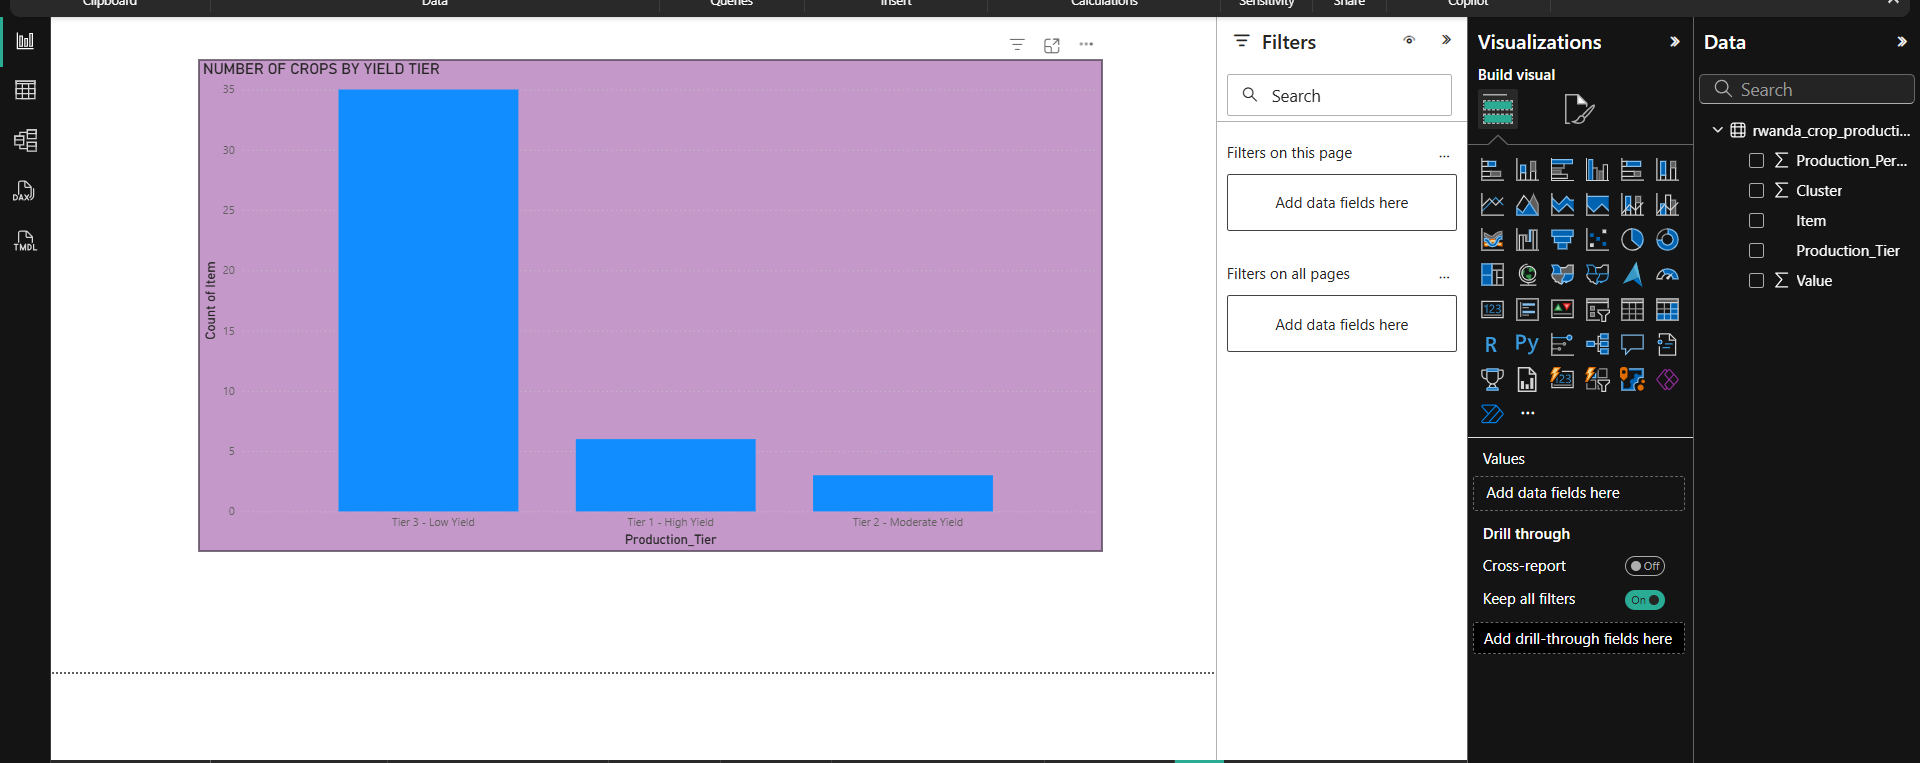

What the dashboard file says about the page in this screenshot:
{"tool":"powerbi","page":{"name":"Clustered Column Chart","canvas":[1280,720],"ordinal":4},"visuals":[{"type":"clusteredColumnChart","title":"NUMBER OF CROPS BY YIELD TIER","fields":{"Category":["rwanda_crop_production_trends.Production_Tier"],"Y":["CountNonNull(rwanda_crop_production_trends.Item)"]},"box":[161.9,46.7,993.5,540.7],"z":0}]}

Visuals, with their boxes on the page's 1280x720 design canvas (x1, y1, x2, y2). These are canvas units, not pixel positions in the 1920x763 screenshot, which may show the page scaled, cropped or inside an application window:
"NUMBER OF CROPS BY YIELD TIER" clusteredColumnChart: [162, 47, 1155, 587]
